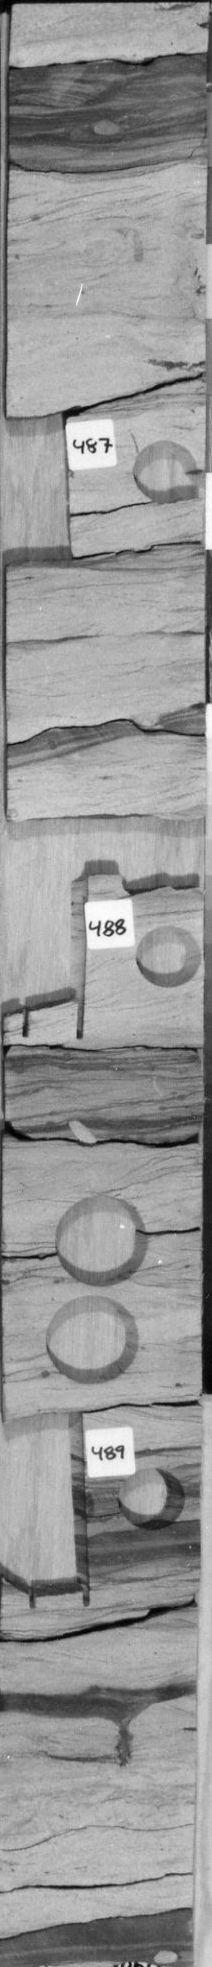hplug: (127, 433, 203, 509), (115, 1464, 188, 1535), (130, 921, 204, 990)
scal: (46, 1190, 154, 1290), (39, 1290, 146, 1387)
vplug: (19, 1409, 94, 1613), (1, 401, 82, 566), (19, 879, 94, 1042)
